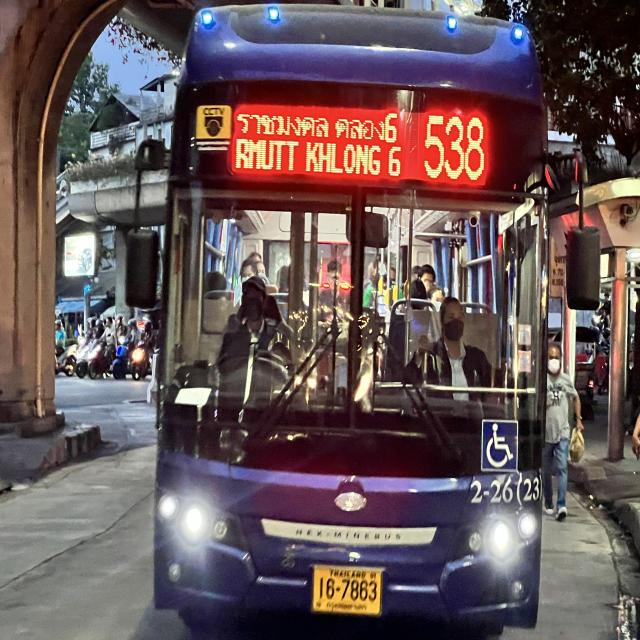Bus-Line-Number: (418, 102, 491, 192)
Destination-Sign-Normal: (223, 88, 413, 190)
TSB-Bus: (140, 0, 558, 640)
